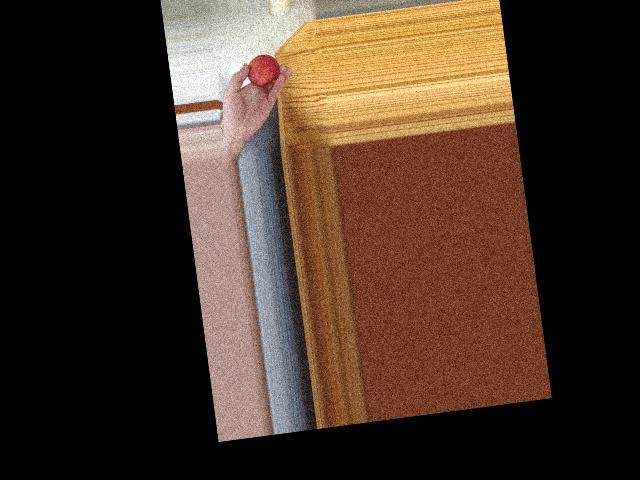apple: (244, 51, 282, 93)
